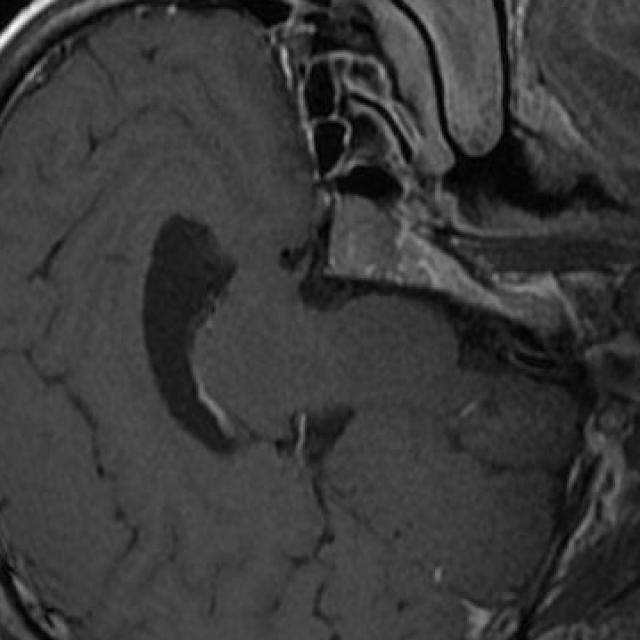pituitary: (328, 194, 394, 278)
